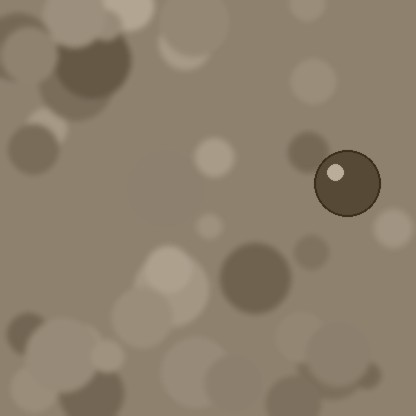gota: (314, 152, 380, 222)
